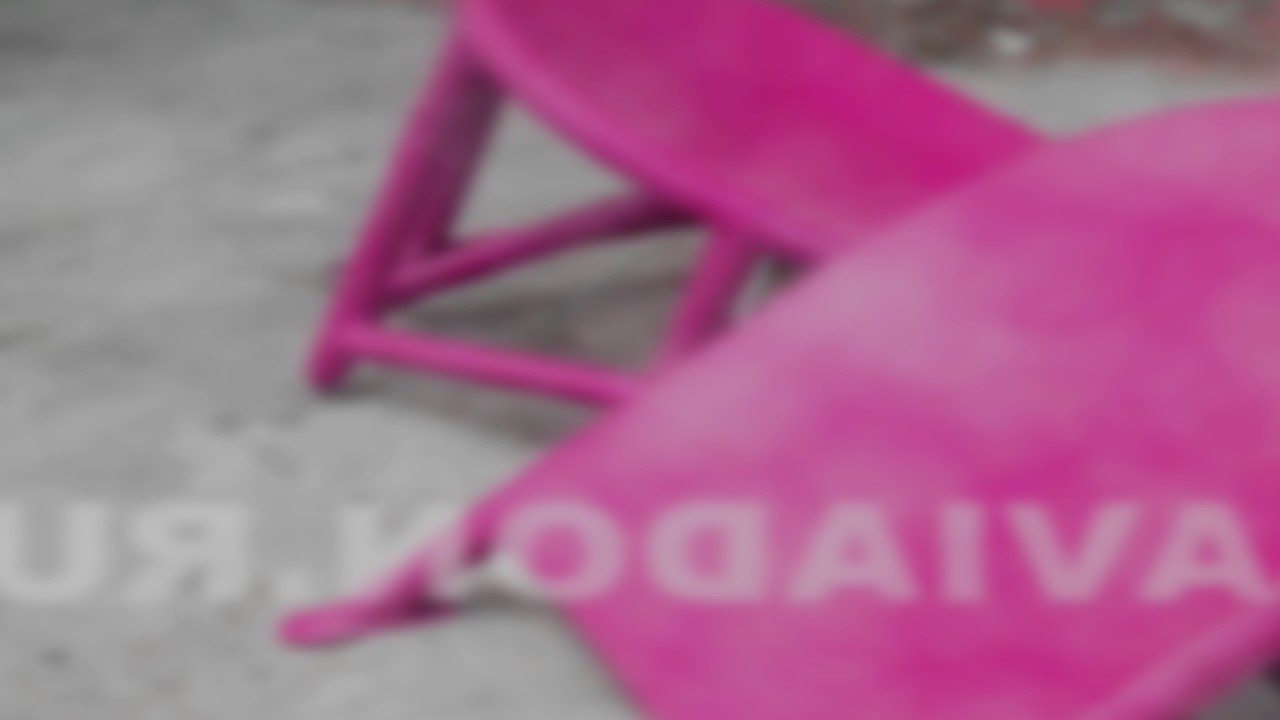chock: (276, 95, 1280, 720), (289, 0, 1051, 390)
